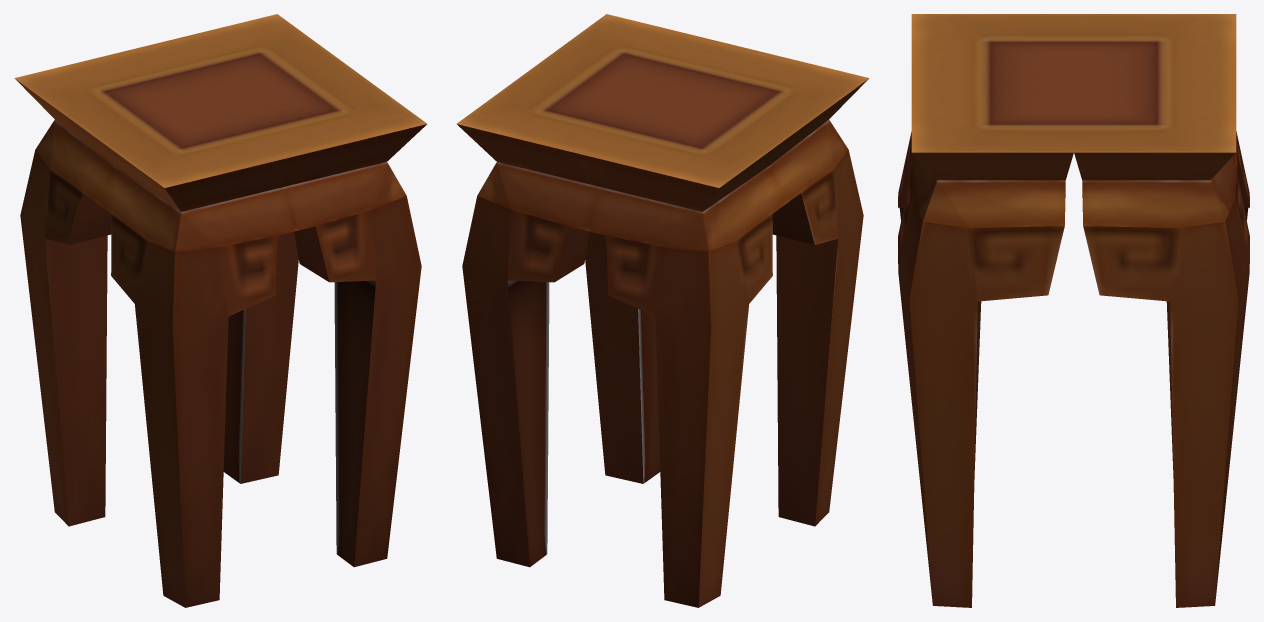
Rendered from FB_Chengxiangfu_zhuozi.FBX.
The picture shows the model from 3 angles, left to right: view 1: azimuth 30°, elevation 25°; view 2: azimuth 150°, elevation 25°; view 3: azimuth 270°, elevation 25°; orthographic projection. The views are drawn at different scales.
Visible parts, largest first — view 1: Object02; view 2: Object02; view 3: Object02.
Part boxes in pixels (x1=…): Object02: x1=14, y1=14, x2=426, y2=607; Object02: x1=457, y1=14, x2=869, y2=607; Object02: x1=898, y1=14, x2=1249, y2=607.
Bounding box in the file's own units: 0.9383 × 1.48 × 1.01.
